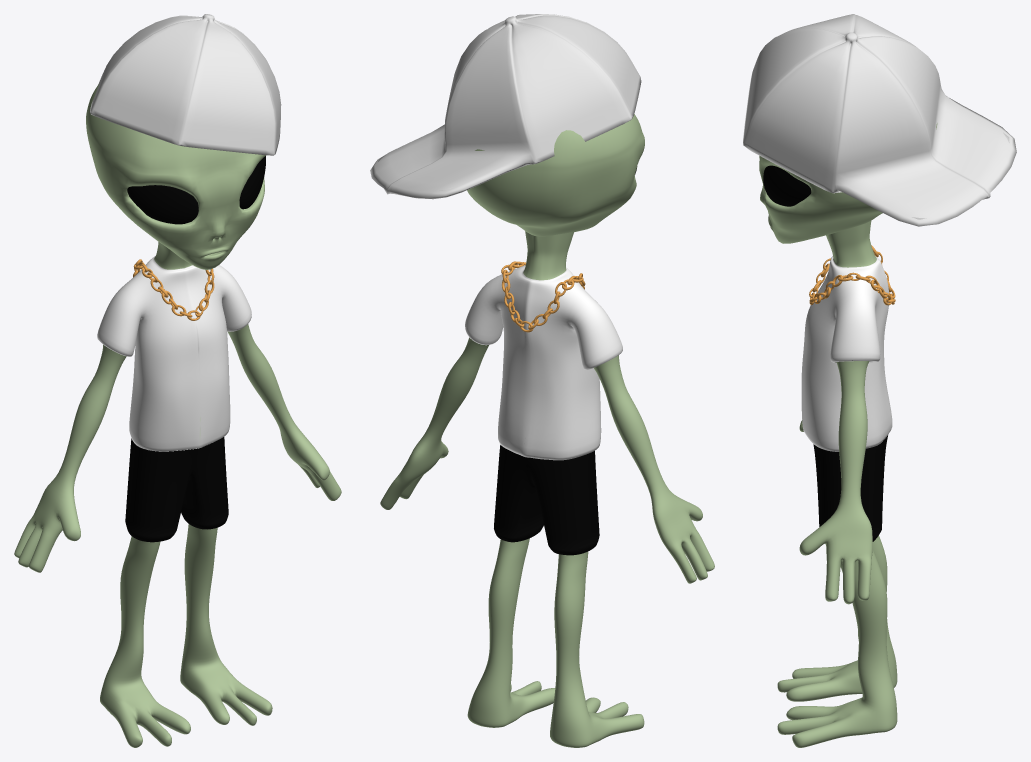
Rendered from alien.glb.
3 views of the same model, side by side, from view 1: azimuth 30°, elevation 25°; view 2: azimuth 150°, elevation 25°; view 3: azimuth 270°, elevation 25° (orthographic). The views are drawn at different scales.
Visible parts, largest first — view 1: Cube, Sphere.001, Sphere, Torus.004; view 2: Cube, Sphere.001, Torus.004; view 3: Cube, Sphere.001, Sphere, Torus.004.
Boxes of the visible parts, <box> form: Cube: <box>14,83,341,747</box>; Sphere.001: <box>90,14,281,155</box>; Sphere: <box>127,156,265,224</box>; Torus.004: <box>133,259,214,320</box>; Cube: <box>380,114,714,747</box>; Sphere.001: <box>370,14,641,199</box>; Torus.004: <box>501,261,585,332</box>; Cube: <box>759,123,937,747</box>; Sphere.001: <box>743,14,1016,226</box>; Sphere: <box>763,165,811,206</box>; Torus.004: <box>809,245,895,305</box>.
Size of the model in its own units: 1.58 by 3.31 by 1.18.
3 materials, 1 textured.
